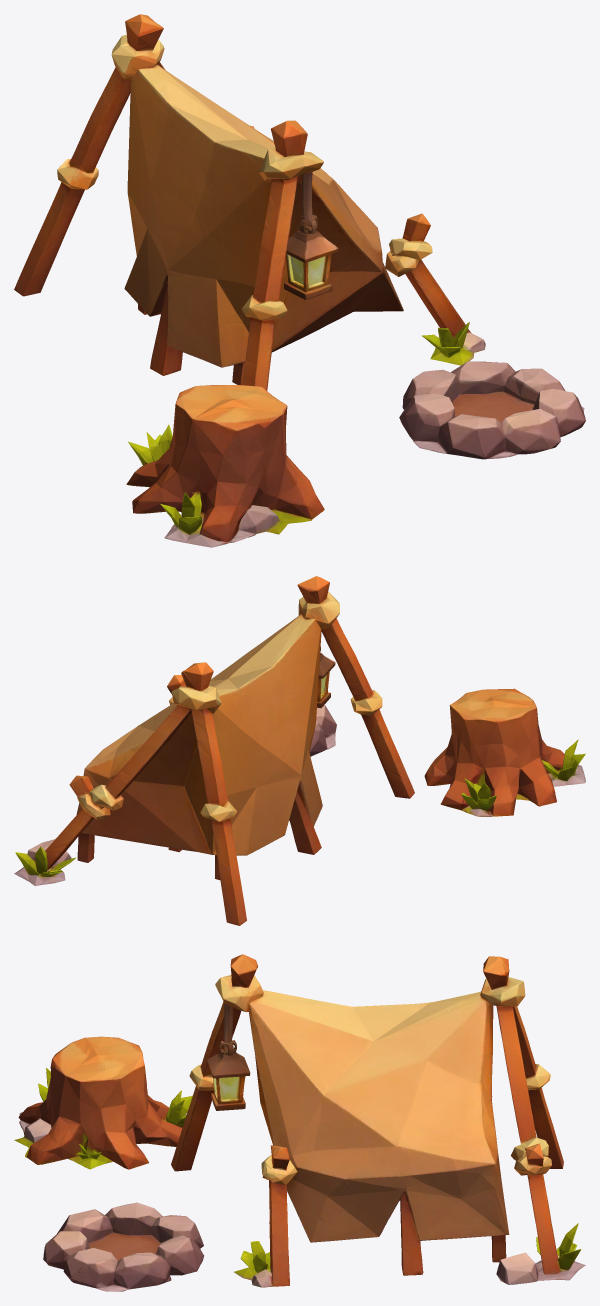
The model's file is KeepSakeTent.glb.
The picture shows the model from 3 angles, top to bottom: view 1: azimuth 30°, elevation 25°; view 2: azimuth 150°, elevation 25°; view 3: azimuth 270°, elevation 25°; orthographic projection. The views are drawn at different scales.
Visible parts, largest first — view 1: tripo_node_a0d29cb9-4797-498e-bdb7-ca4ee76a93d6; view 2: tripo_node_a0d29cb9-4797-498e-bdb7-ca4ee76a93d6; view 3: tripo_node_a0d29cb9-4797-498e-bdb7-ca4ee76a93d6.
Part boxes in pixels (x1,y1,x2,y2): tripo_node_a0d29cb9-4797-498e-bdb7-ca4ee76a93d6: [14, 14, 585, 547]; tripo_node_a0d29cb9-4797-498e-bdb7-ca4ee76a93d6: [14, 576, 585, 925]; tripo_node_a0d29cb9-4797-498e-bdb7-ca4ee76a93d6: [14, 954, 585, 1291].
Size of the model in its own units: 0.7687 by 0.465 by 0.9797.
1 material, 1 textured.
